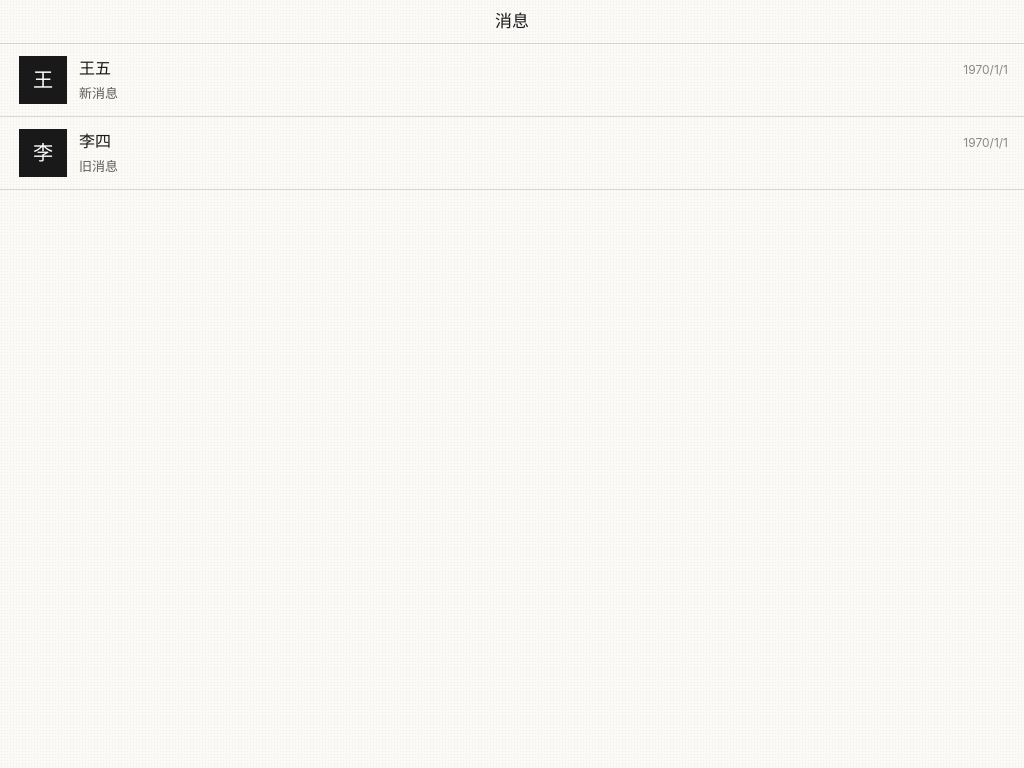
Chats 置顶与免打扰 › 右键会话行打开操作面板并可切换置顶
Right-click the text "王五" at (95, 68), box [79,56,111,80]
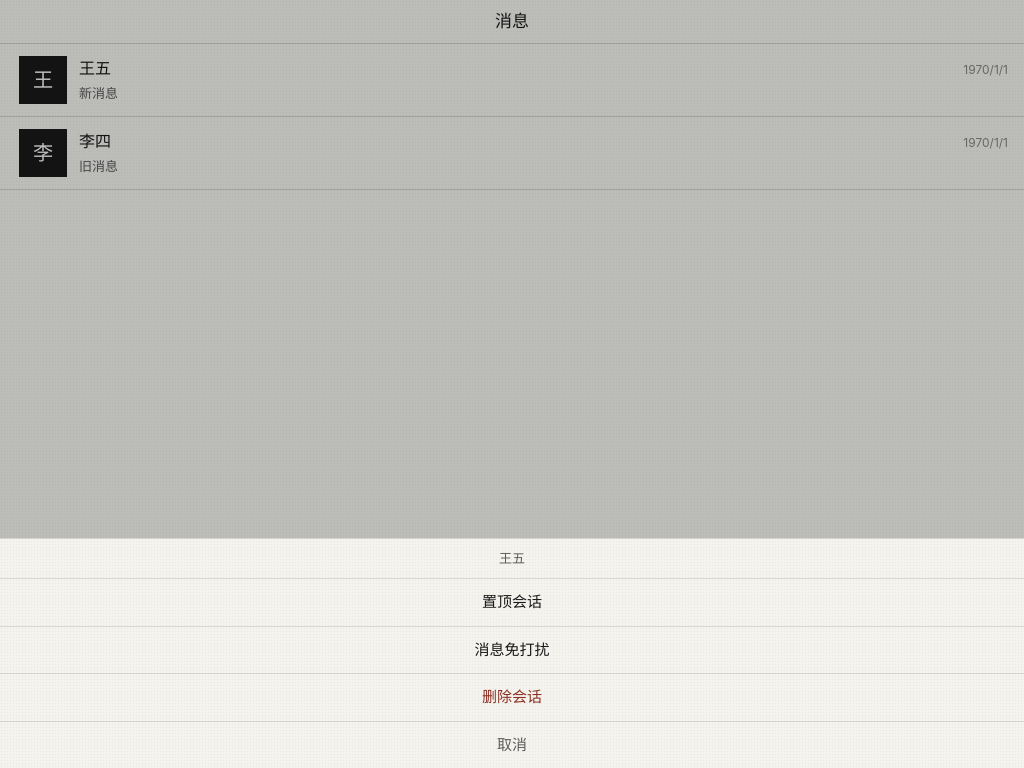
Result: the element with test id "row-actions" is shown
Click the button with test id "action-pin" at (512, 603), box [0,579,1023,626]
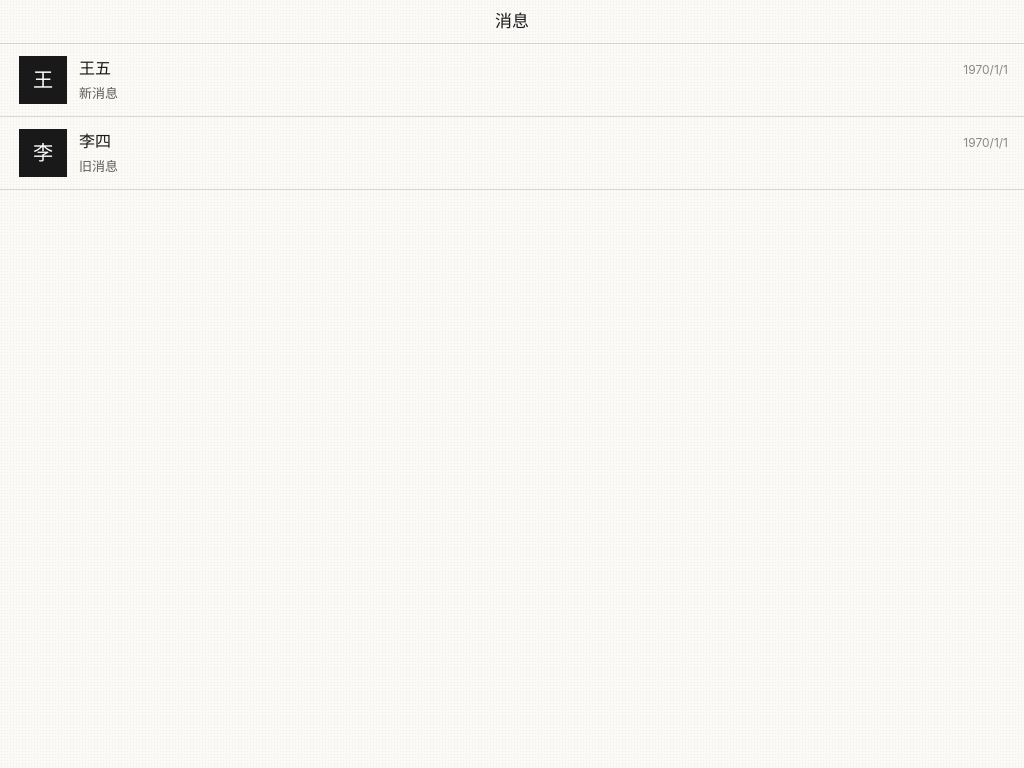
Result: the element with test id "row-actions" is gone
